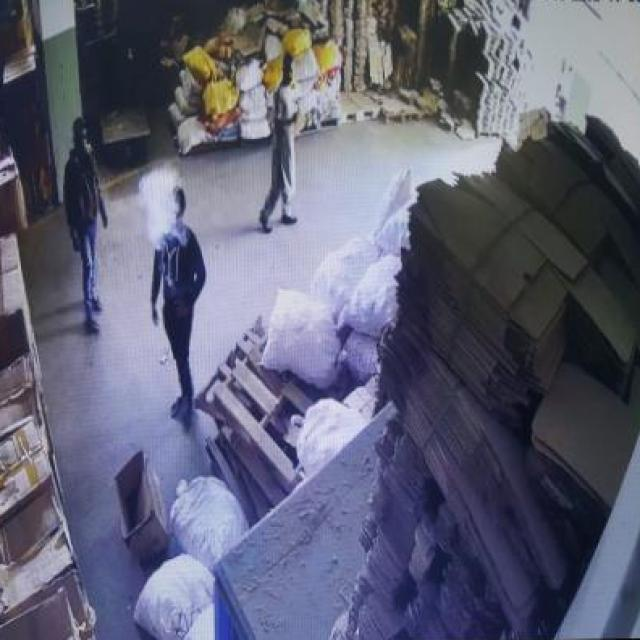fire: (138, 158, 187, 249)
